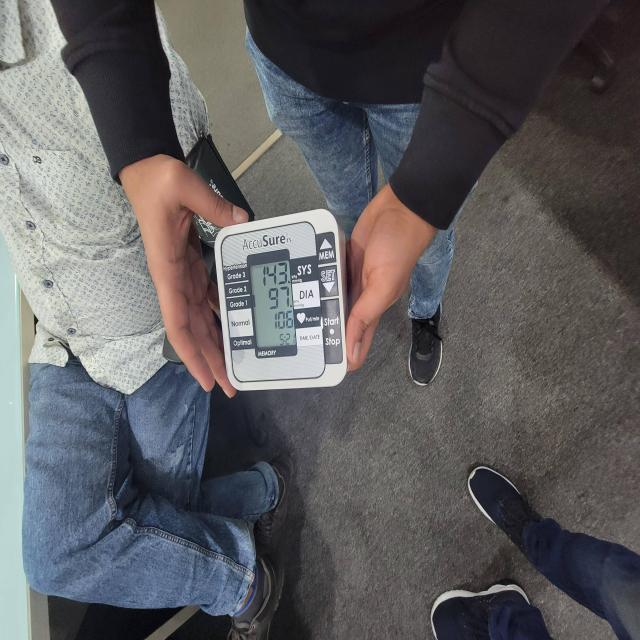bp: (210, 210, 348, 394)
